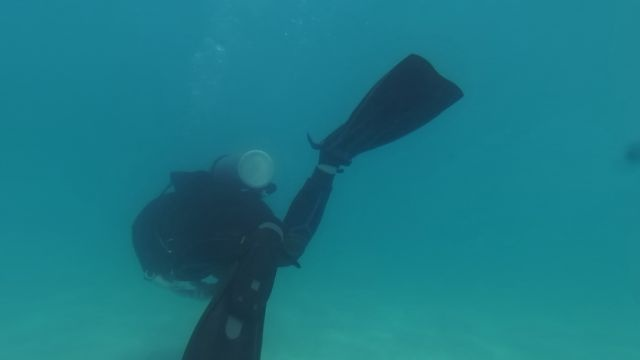Diver: (86, 39, 482, 358)
